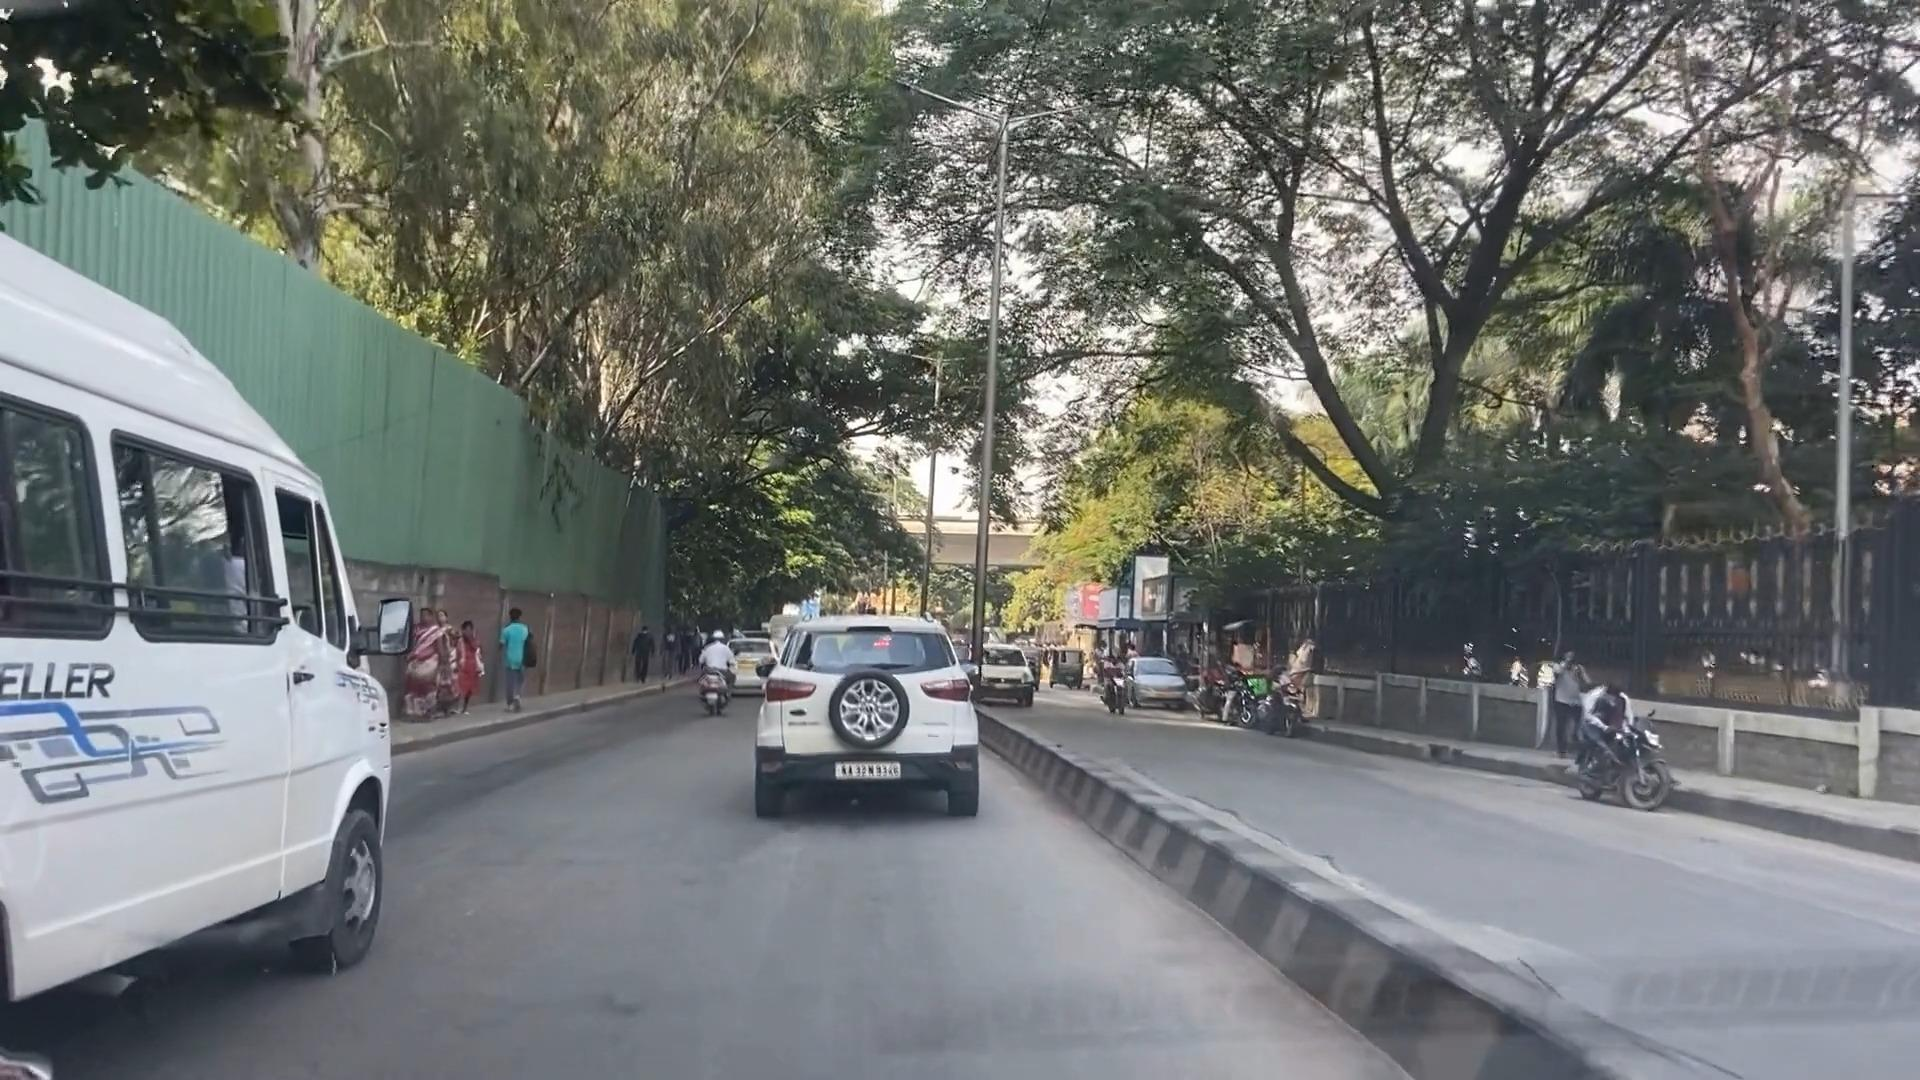HMV: (0, 223, 396, 1001)
LMV: (783, 608, 989, 811)
